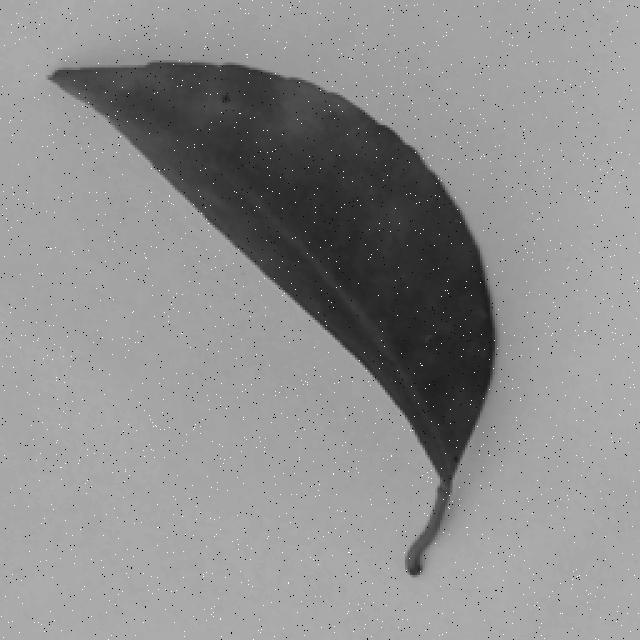greening: (41, 46, 503, 590)
